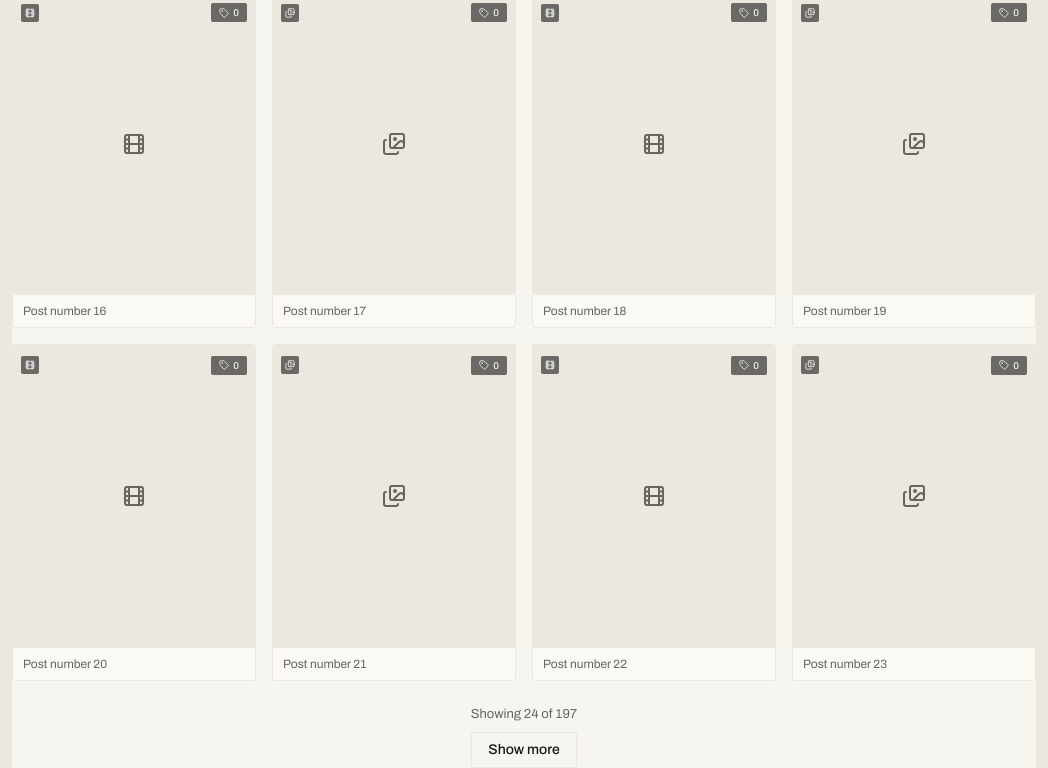
Test case: Content › paging the grid › starts from the top again when the filter changes
This screenshot has width=1048, height=768.
(page scrolled)
Click the button "Show more": click(524, 750) [471, 732, 577, 767]
(page scrolled)
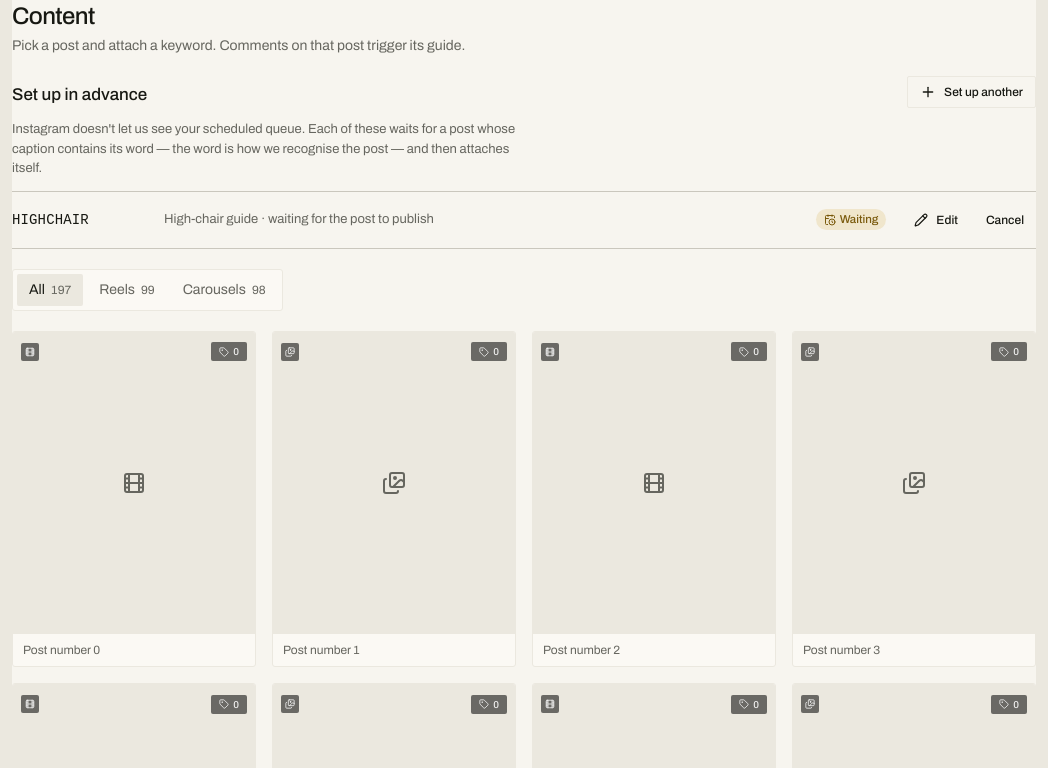
Click the tab "Reels 99": click(127, 290) [87, 274, 167, 306]
(page scrolled)
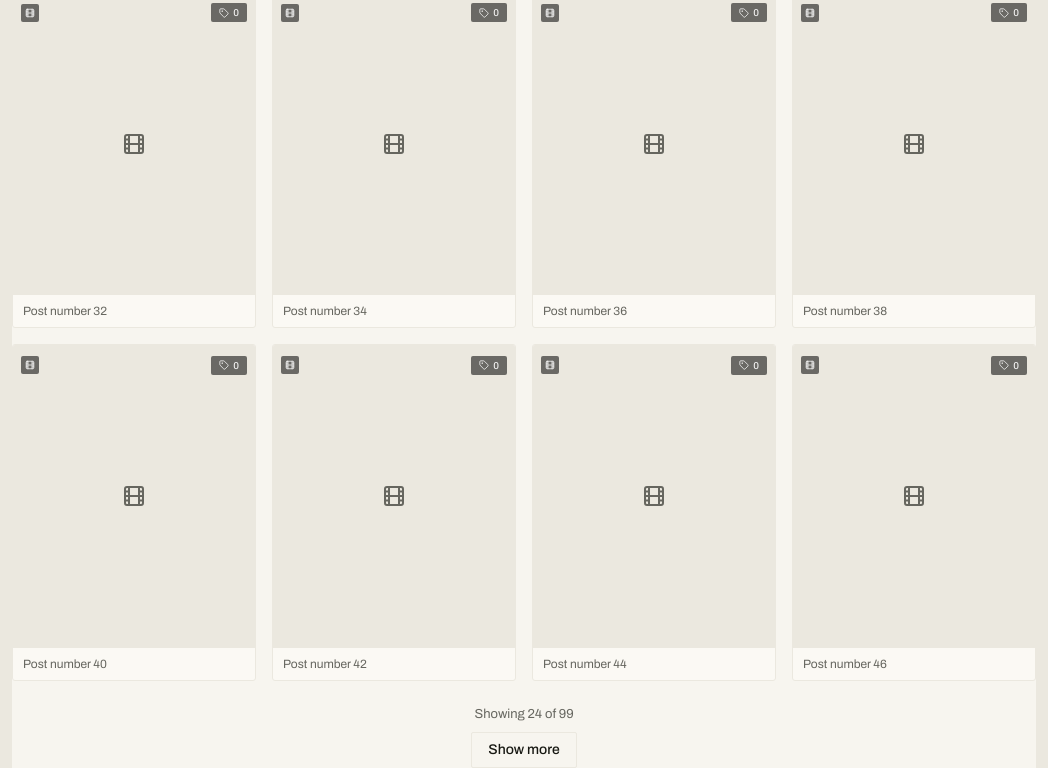
Now the text "Showing 24 of 99" is shown, box [474, 704, 574, 724]
